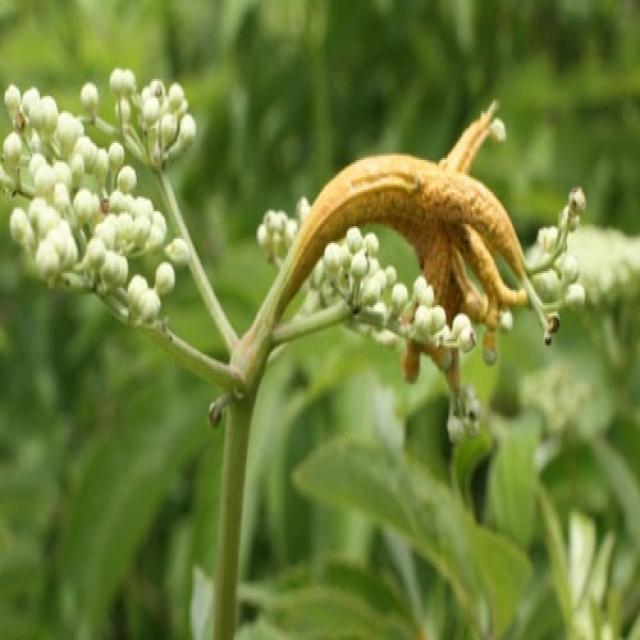Elderberry_rust: (292, 82, 543, 348)
